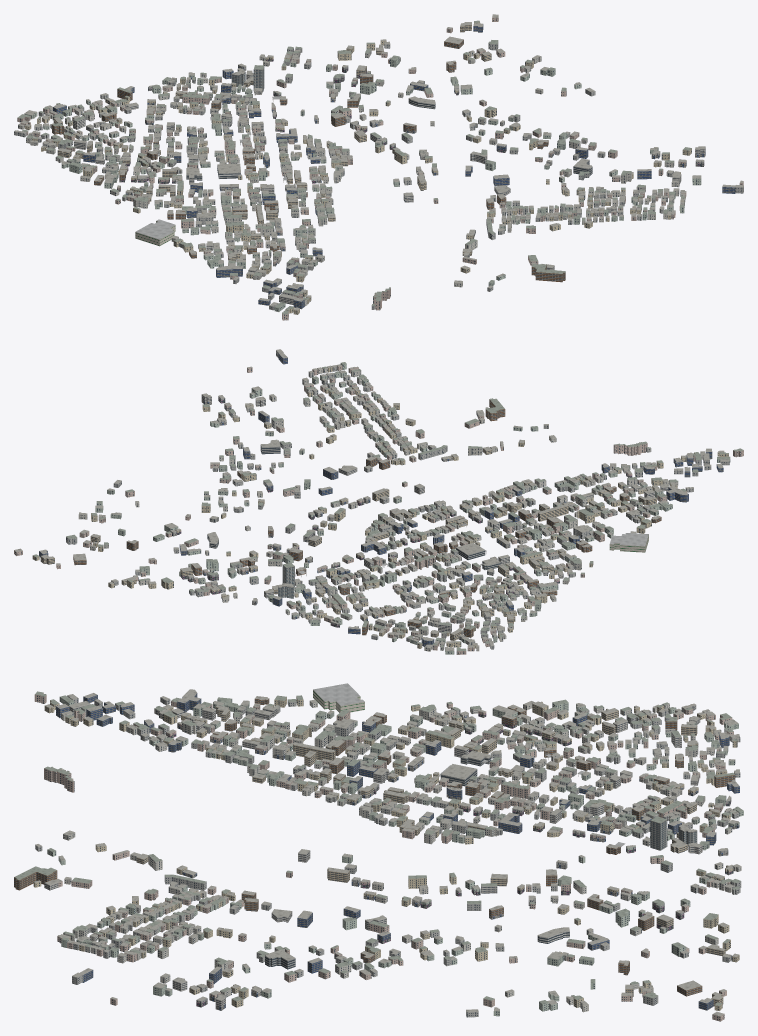
Rendered from ArahaTown_Block_E02048_S03072.gltf.
3 views of the same model, one above another, from view 1: azimuth 30°, elevation 25°; view 2: azimuth 150°, elevation 25°; view 3: azimuth 270°, elevation 25° (orthographic). The views are drawn at different scales.
Visible parts, largest first — view 1: ArahaTown_Block_E02048_S03072; view 2: ArahaTown_Block_E02048_S03072; view 3: ArahaTown_Block_E02048_S03072.
Part boxes in pixels (x1,y1,x2,y2): ArahaTown_Block_E02048_S03072: [14, 14, 743, 320]; ArahaTown_Block_E02048_S03072: [14, 349, 743, 654]; ArahaTown_Block_E02048_S03072: [14, 683, 743, 1021].
Size of the model in its own units: 1082 by 76.79 by 1068.
19 materials, 18 textured.
